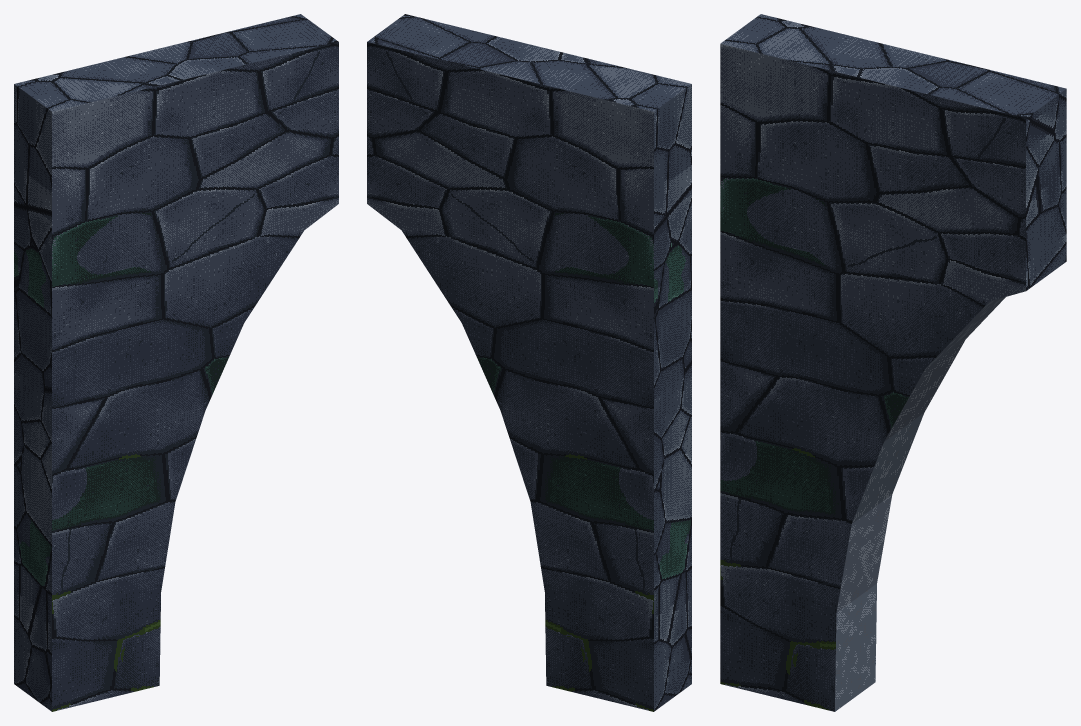
Rendered from SM_Env_WallBreach_2x4_L.glb.
3 views of the same model, side by side, from view 1: azimuth 30°, elevation 25°; view 2: azimuth 150°, elevation 25°; view 3: azimuth 330°, elevation 25° (orthographic). The views are drawn at different scales.
Parts seen in each view (by area): view 1: joint_6, joint_4, joint_3, joint_2, joint_0, joint_1, joint_5; view 2: joint_6, joint_4, joint_3, joint_2, joint_0, joint_1, joint_5; view 3: joint_6, joint_4, joint_3, joint_2, joint_0, joint_1, joint_5.
Part boxes in pixels (left/top/right/bottom): joint_6: left=14, top=14, right=338, bottom=273; joint_4: left=14, top=230, right=303, bottom=369; joint_3: left=14, top=323, right=243, bottom=447; joint_2: left=14, top=410, right=205, bottom=531; joint_0: left=14, top=591, right=160, bottom=711; joint_1: left=14, top=502, right=175, bottom=618; joint_5: left=14, top=204, right=338, bottom=291; joint_6: left=367, top=14, right=691, bottom=273; joint_4: left=402, top=230, right=691, bottom=369; joint_3: left=462, top=323, right=691, bottom=447; joint_2: left=500, top=410, right=691, bottom=531; joint_0: left=545, top=591, right=691, bottom=711; joint_1: left=530, top=502, right=691, bottom=618; joint_5: left=367, top=204, right=691, bottom=291; joint_6: left=720, top=14, right=1066, bottom=290; joint_4: left=720, top=236, right=1005, bottom=368; joint_3: left=720, top=319, right=965, bottom=441; joint_2: left=720, top=402, right=924, bottom=523; joint_0: left=720, top=584, right=876, bottom=711; joint_1: left=720, top=492, right=892, bottom=612; joint_5: left=720, top=216, right=1025, bottom=301.
Bounding box in the file's own units: 2 × 4 × 0.46.
1 material, 1 textured.
